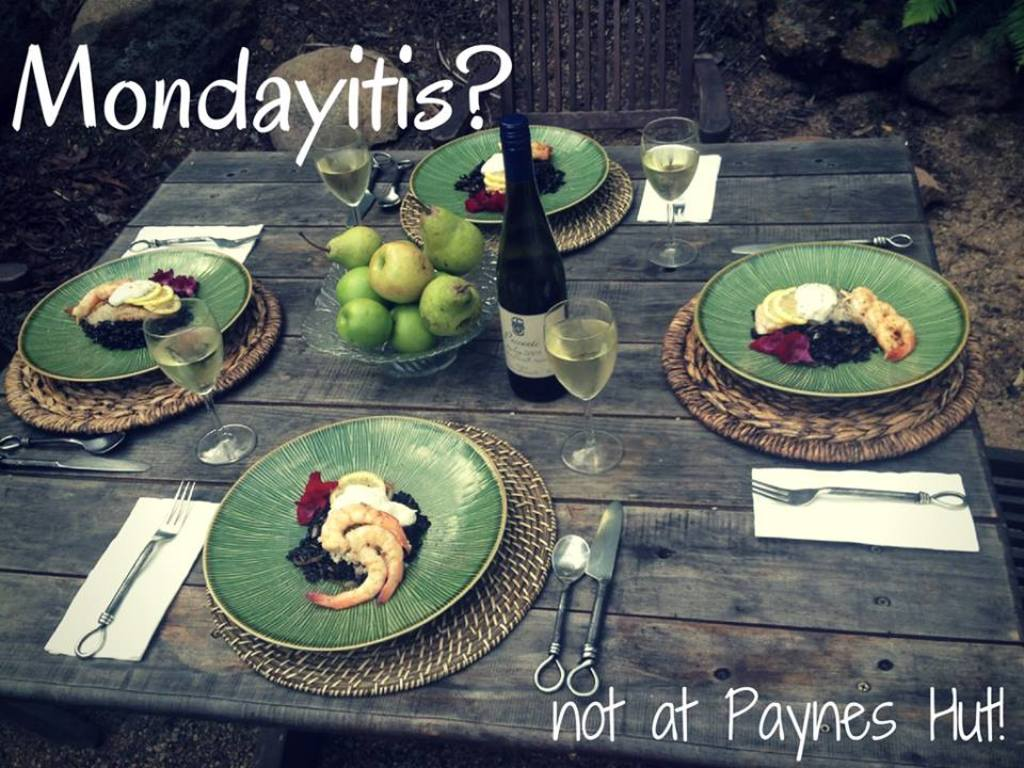Apple: (345, 237, 428, 312), (337, 296, 393, 347), (331, 262, 384, 302), (392, 309, 436, 355)
